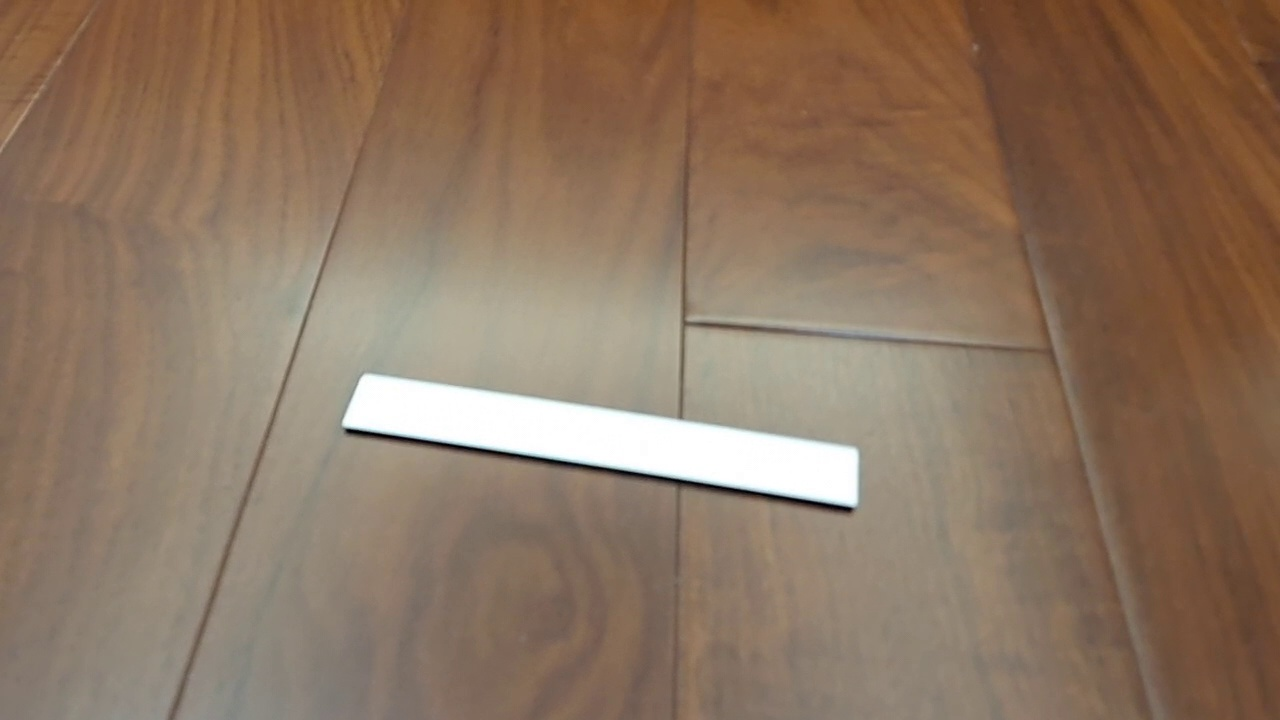ruler: (340, 370, 860, 509)
